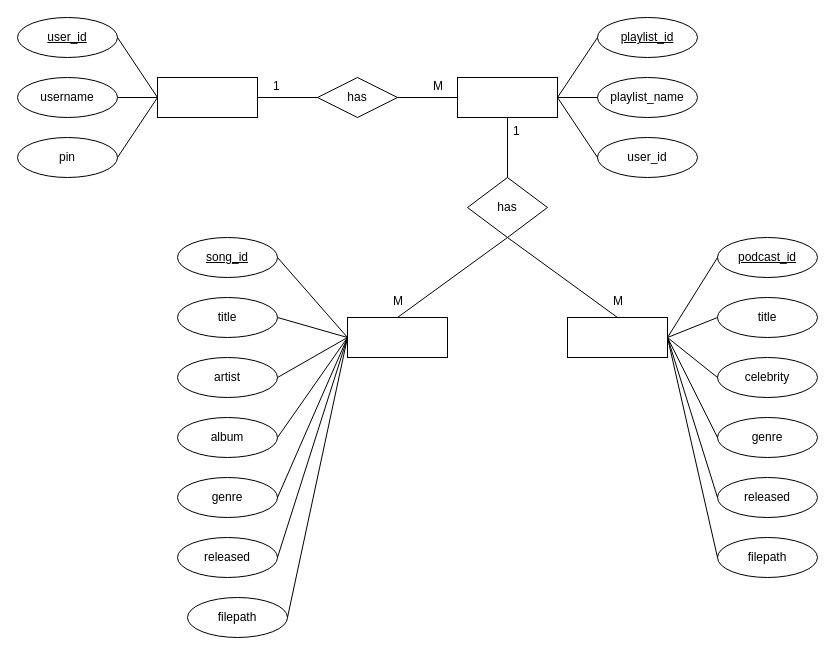
This 835x655 diagram has some shape labels left out. Each missing label, with the box of its shape:
Playlist: (456, 76, 558, 118)
Podcast: (566, 316, 668, 358)
Songs: (346, 316, 448, 358)
User: (156, 76, 258, 118)
